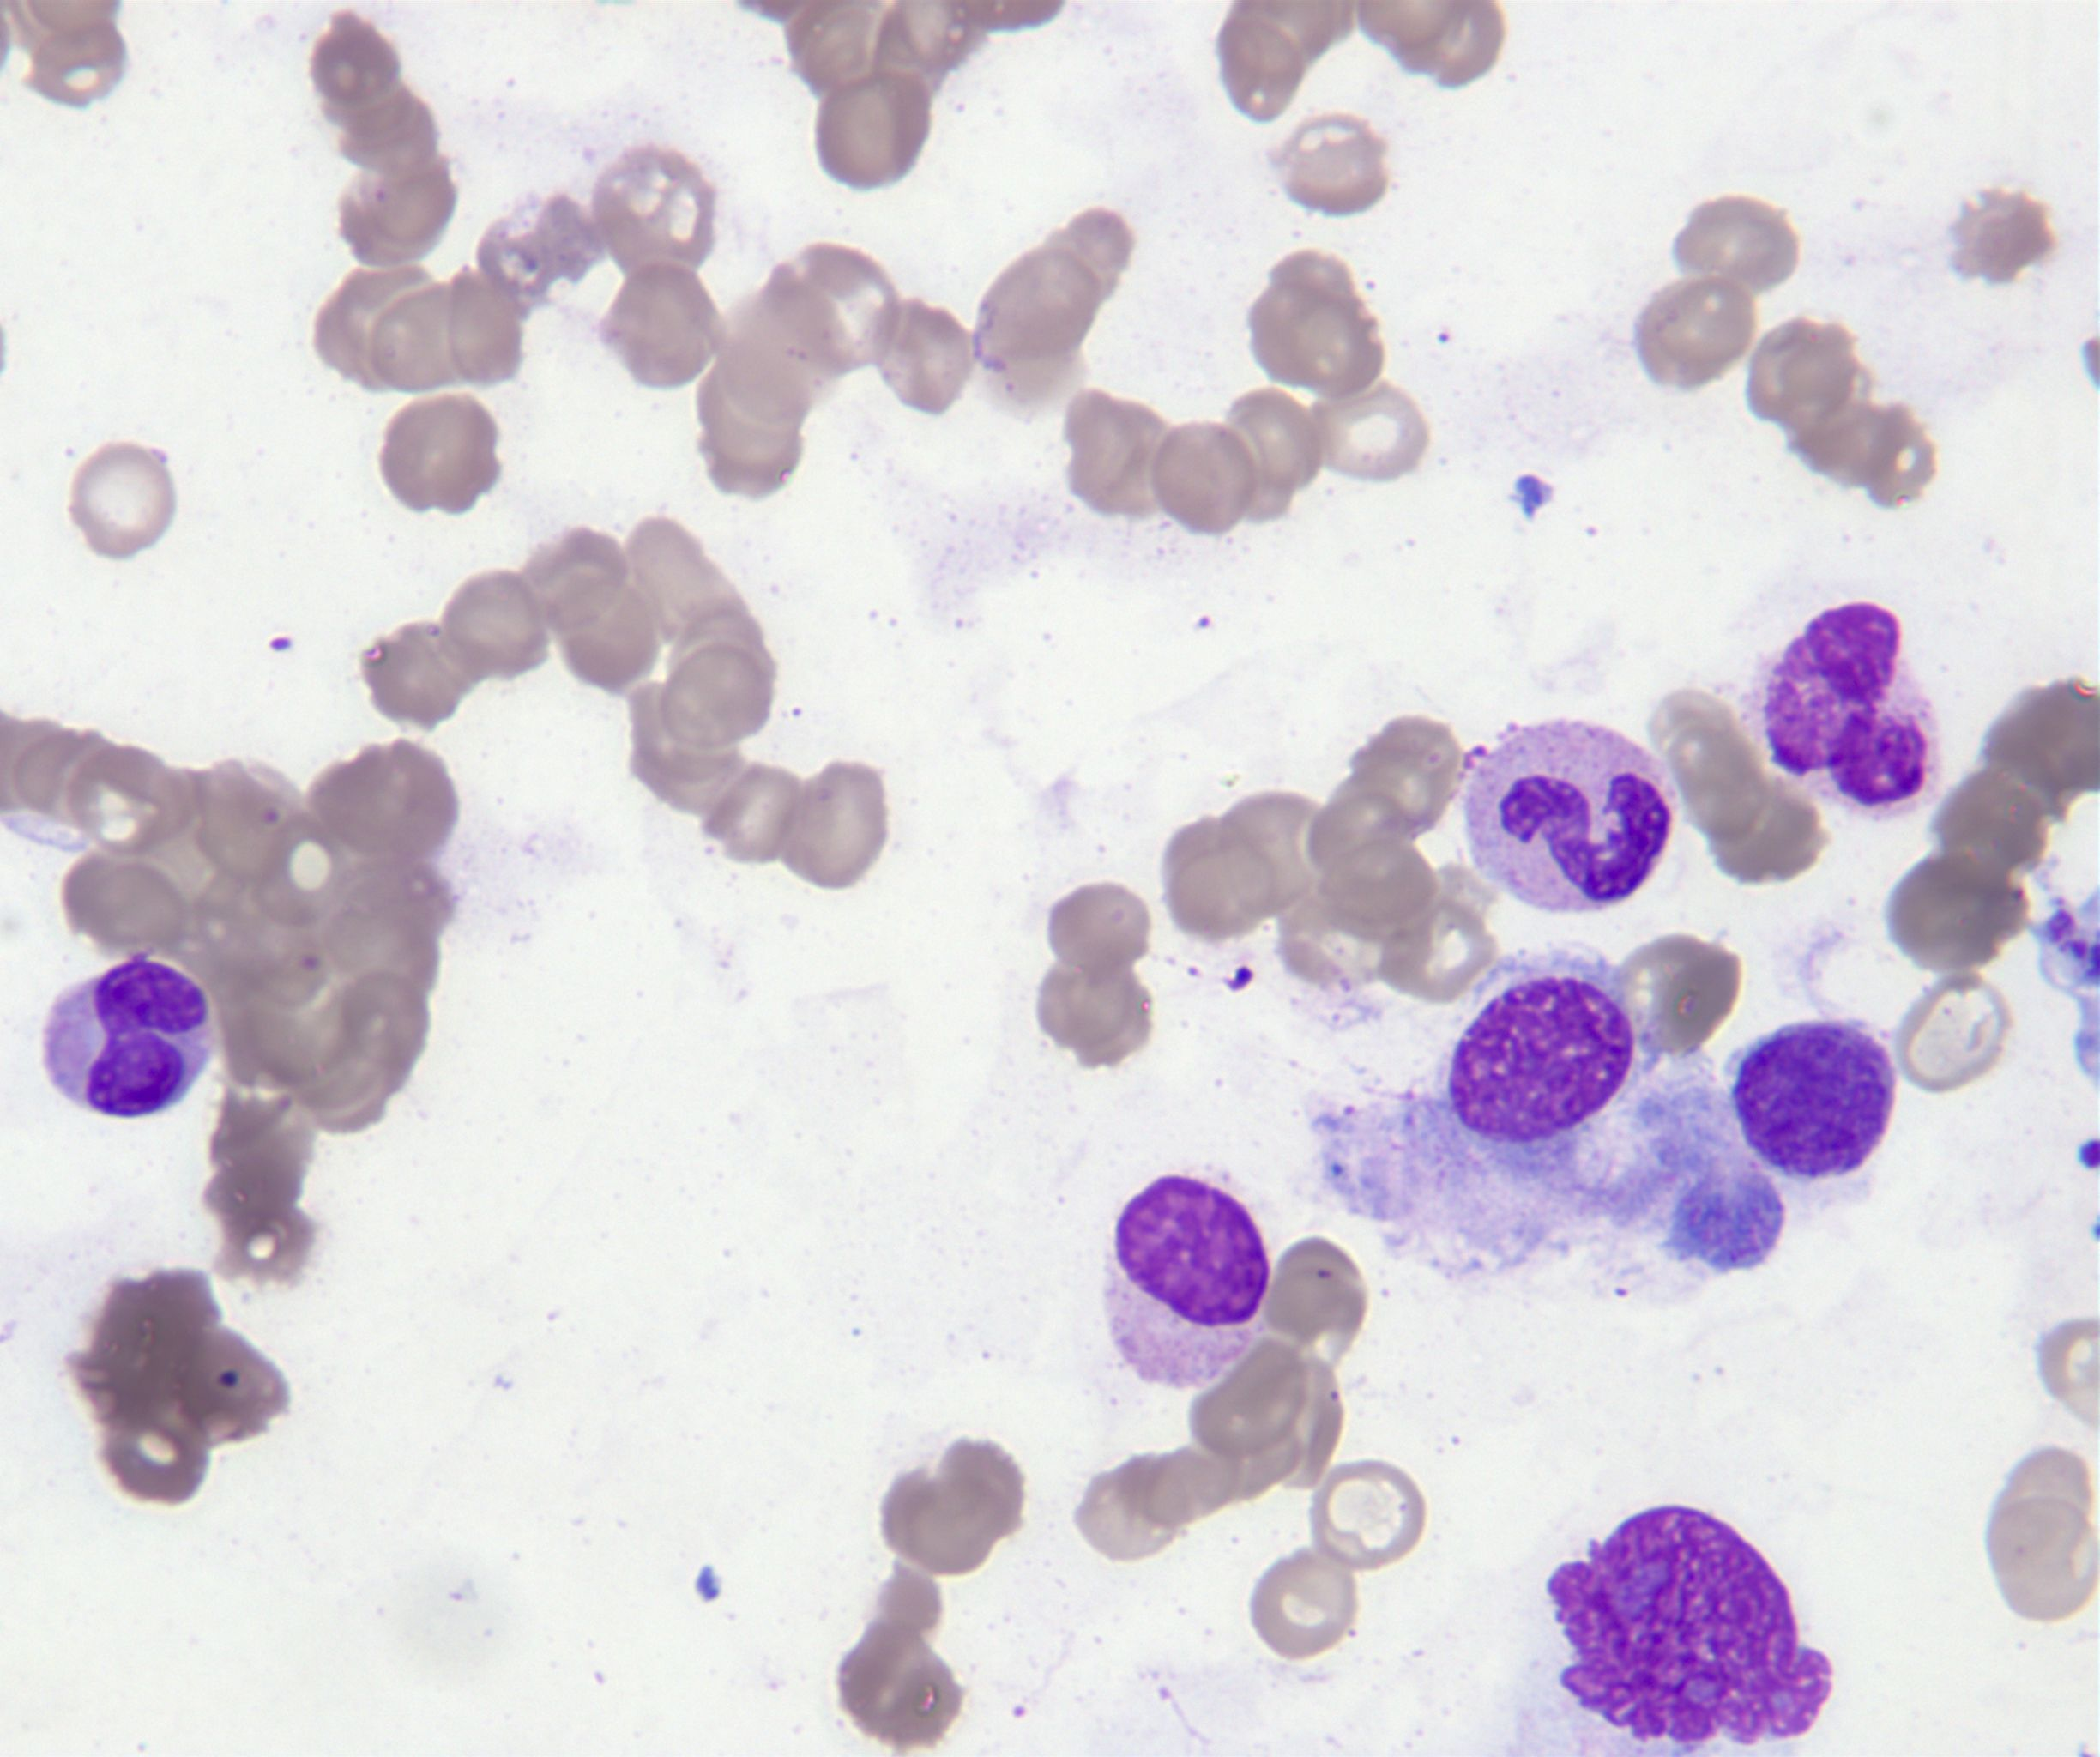5: (1465, 722, 1674, 913)
6: (44, 953, 211, 1118)
x: (1306, 947, 1781, 1270), (1549, 1506, 1833, 1747), (1742, 600, 1941, 824), (1104, 1166, 1270, 1389), (1728, 1021, 1896, 1176)
